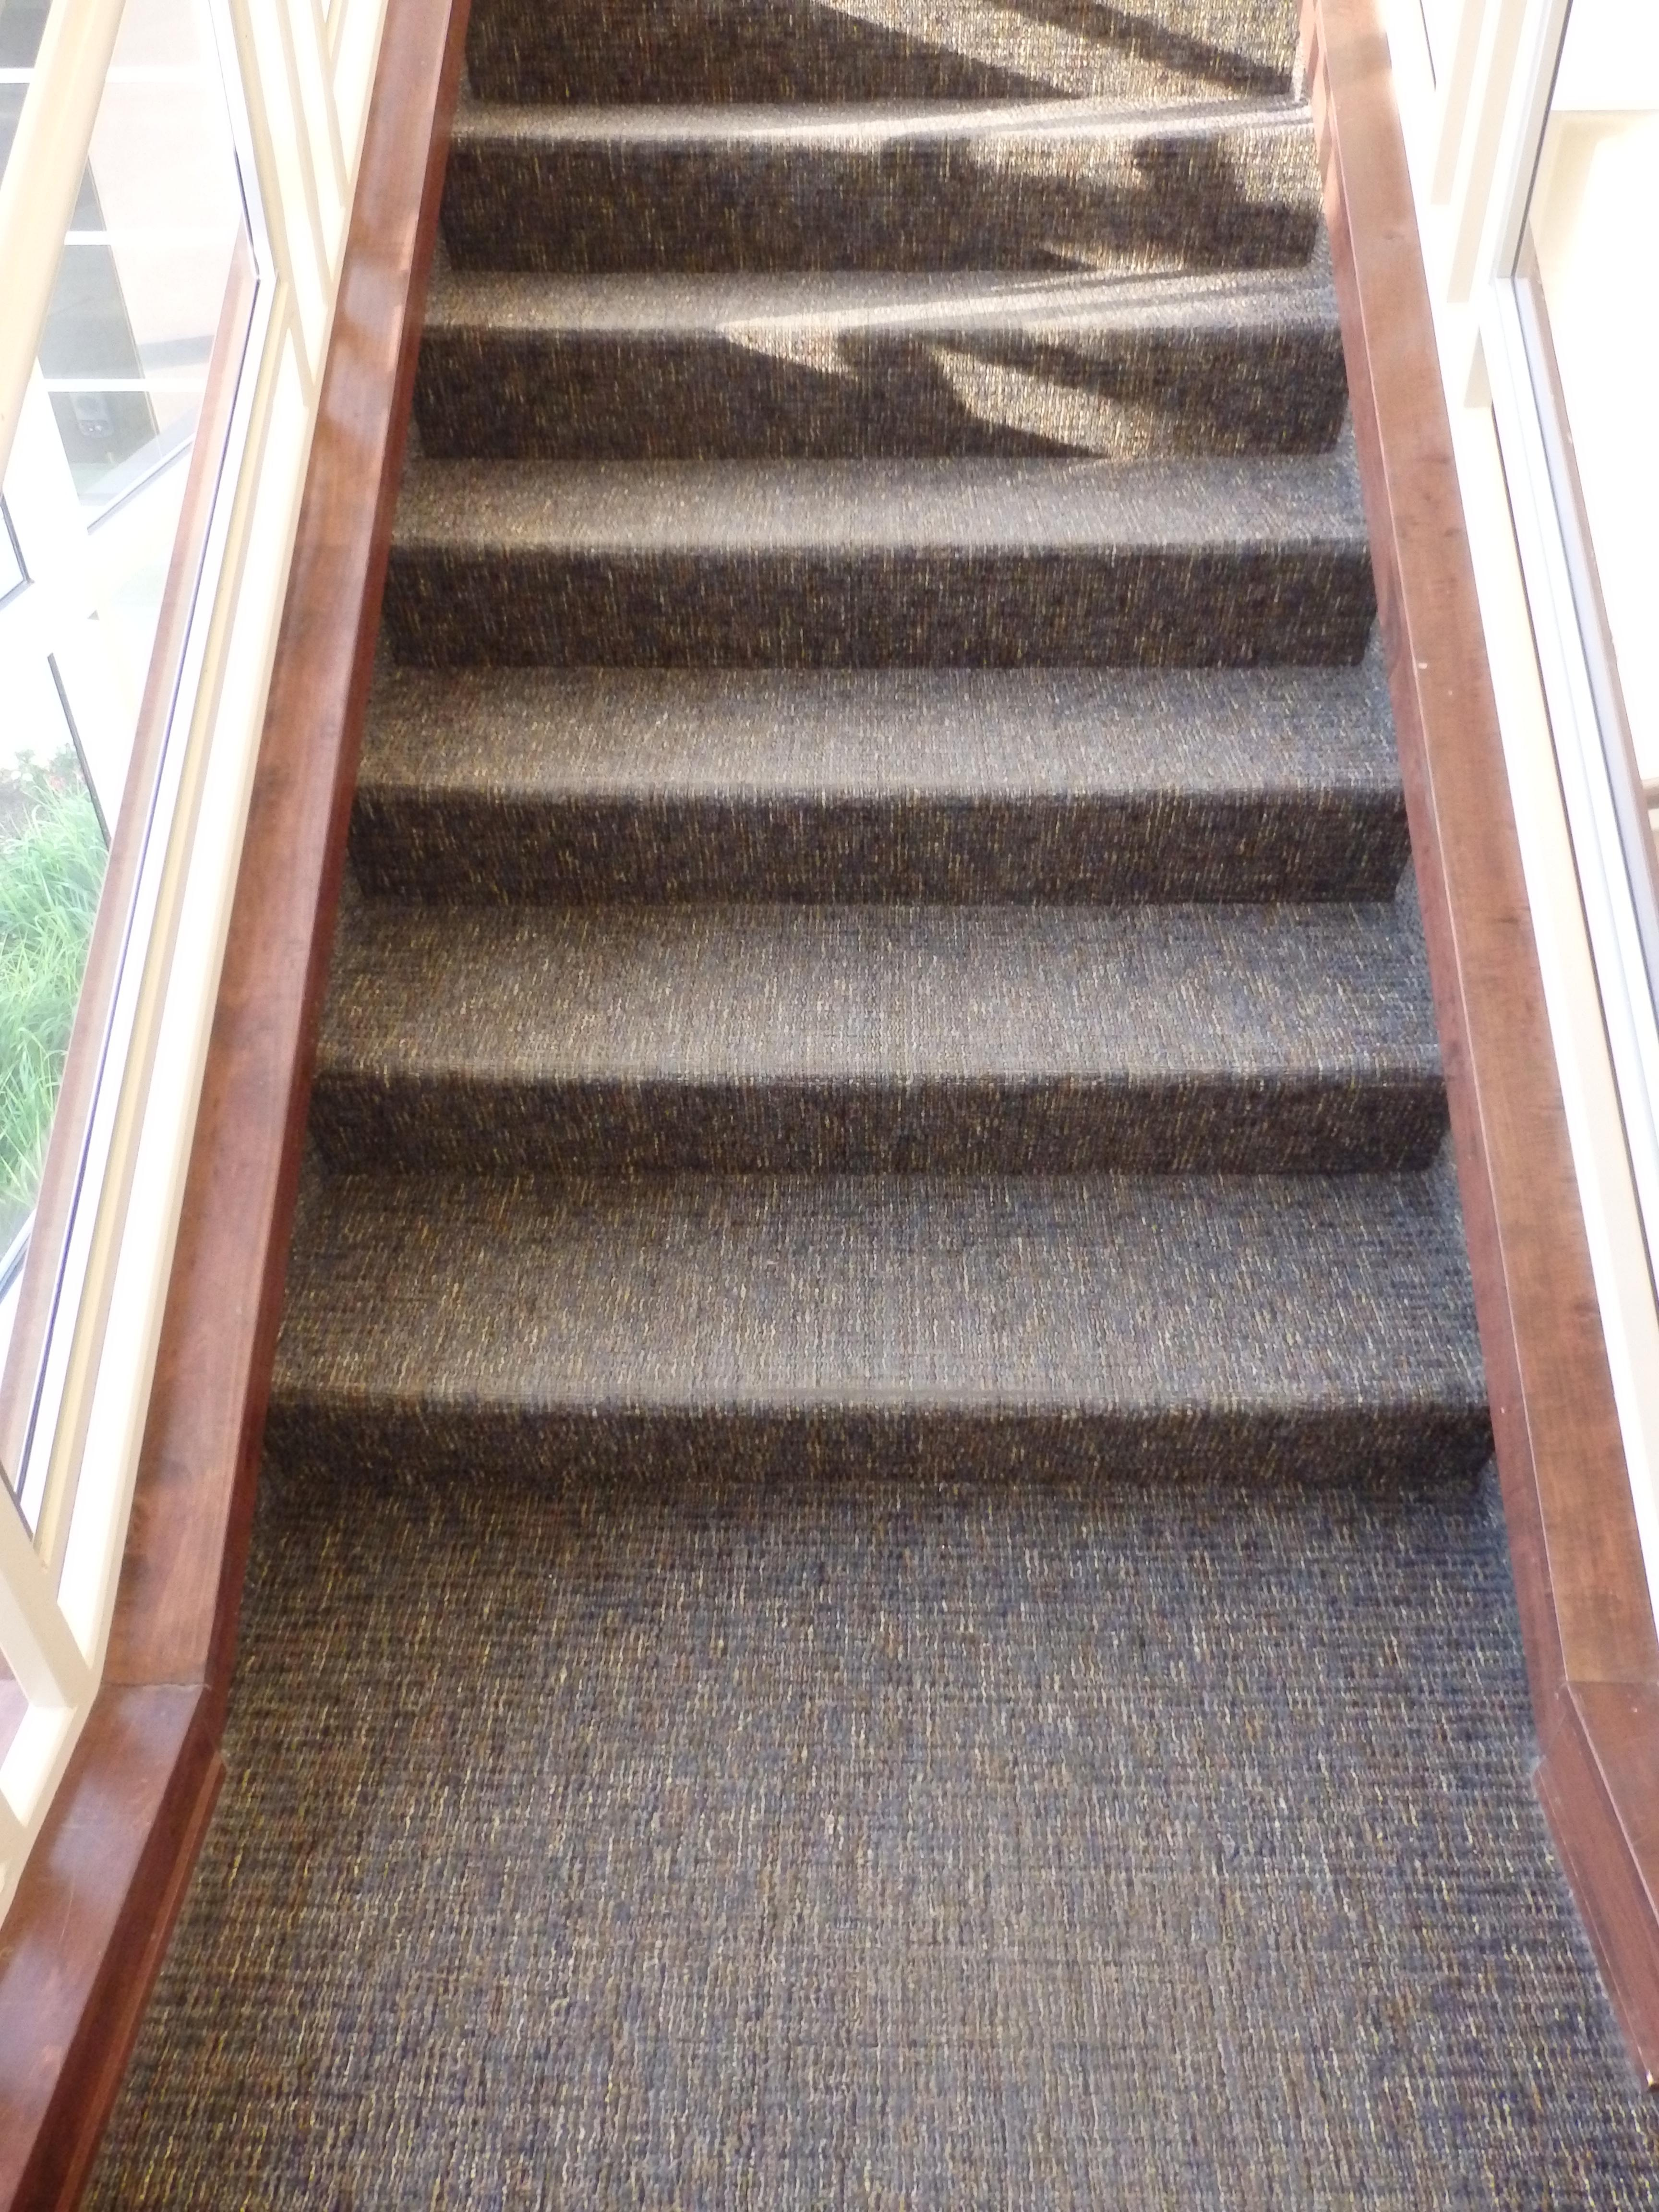stairs_up: (288, 0, 1485, 1742)
